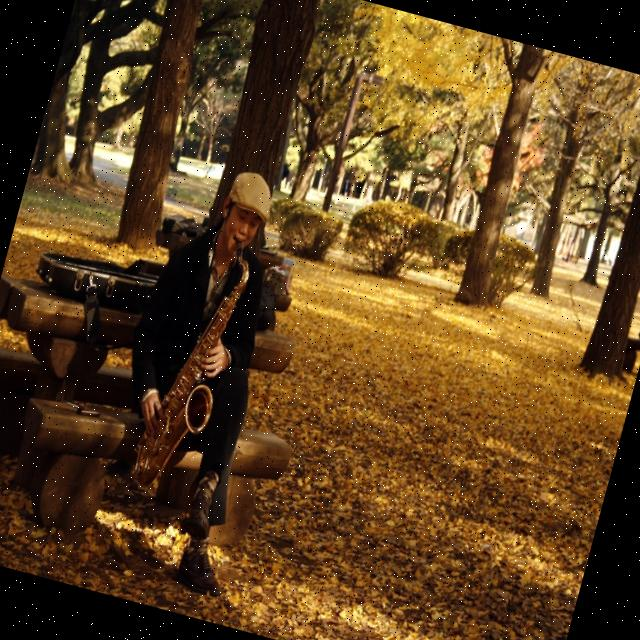saxophone: (121, 234, 258, 508)
